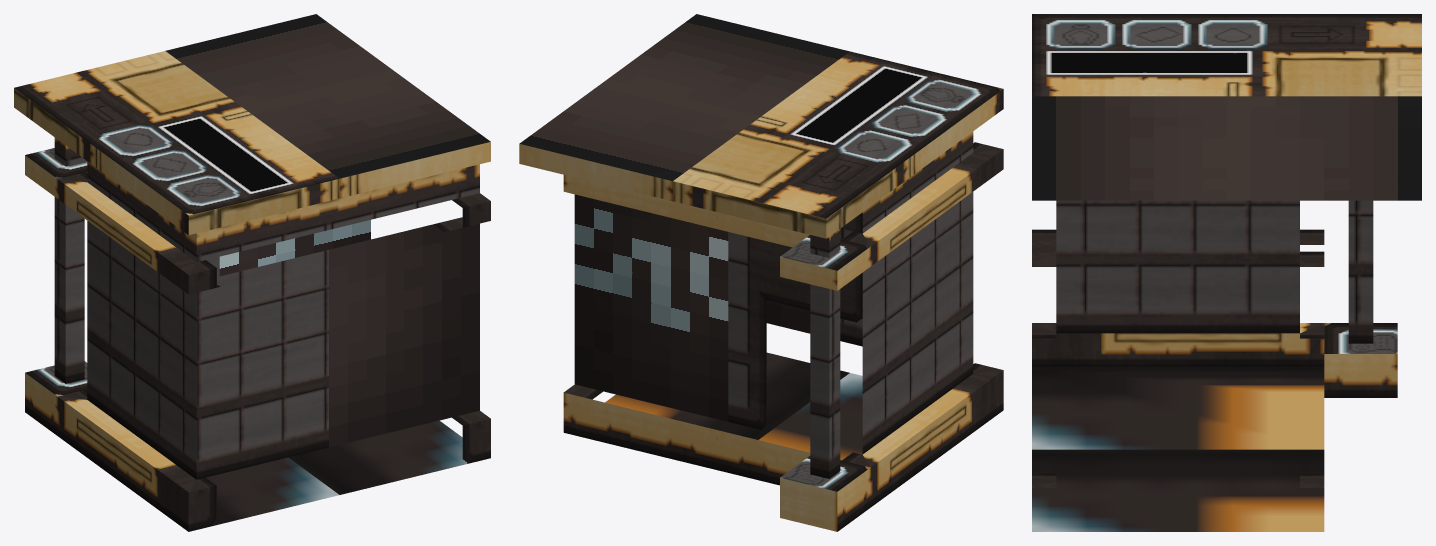
File: desk_right.obj
The picture shows the model from 3 angles, left to right: view 1: azimuth 30°, elevation 25°; view 2: azimuth 150°, elevation 25°; view 3: azimuth 270°, elevation 25°; orthographic projection. The views are drawn at different scales.
Parts seen in each view (by area): view 1: DESK_RIGHT_MAIN.003; view 2: DESK_RIGHT_MAIN.003; view 3: DESK_RIGHT_MAIN.003.
Boxes of the visible parts, box(x1,y1,x2,y2) form: DESK_RIGHT_MAIN.003: box(14, 14, 490, 531); DESK_RIGHT_MAIN.003: box(519, 14, 1003, 531); DESK_RIGHT_MAIN.003: box(1032, 14, 1421, 531).
Bounding box in the file's own units: 1 × 1 × 1.
